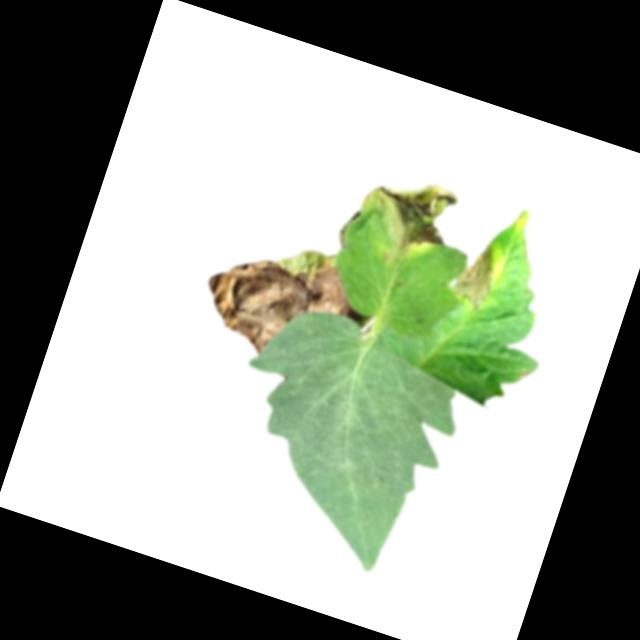Late_blight: (191, 227, 366, 379), (349, 164, 464, 272), (448, 238, 505, 312), (335, 203, 362, 248)
